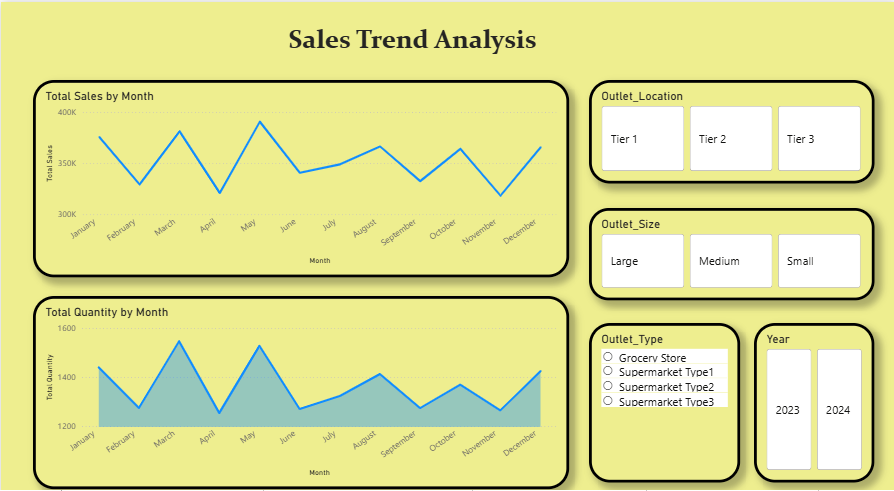

The dashboard page shown, as its layout file describes it:
{"tool":"powerbi","page":{"name":"Sales Trend Analysis","canvas":[1280,720],"ordinal":5},"visuals":[{"type":"lineChart","fields":{"Category":["Blinkit.Order_Date.Variation.Date Hierarchy.Month"],"Y":["Blinkit.Total Sales"]},"box":[46,112,766,282],"z":0},{"type":"stackedAreaChart","fields":{"Category":["Blinkit.Order_Date.Variation.Date Hierarchy.Month"],"Y":["Blinkit.Total Quantity"]},"box":[46,420,766,276],"z":1},{"type":"advancedSlicerVisual","fields":{"Values":["Blinkit.Outlet_Location"]},"box":[840,112,408,148],"z":2},{"type":"advancedSlicerVisual","fields":{"Values":["Blinkit.Outlet_Size"]},"box":[840,294,408,132],"z":3},{"type":"listSlicer","fields":{"Values":["Blinkit.Outlet_Type"]},"box":[840,458,216,228],"z":4},{"type":"advancedSlicerVisual","fields":{"Values":["Blinkit.Order_Date.Variation.Date Hierarchy.Year"]},"box":[1076,458,172,228],"z":5},{"type":"textbox","box":[100,24,976,68],"z":6}]}

Visuals, with their boxes in screenshot pixels (x1, y1, x2, y2), scaled from the page's 1280x720 canvas onto the 894x491 screenshot:
lineChart - Blinkit.Order_Date.Variation.Date Hierarchy.Month x Blinkit.Total Sales: box(32, 76, 567, 269)
stackedAreaChart - Blinkit.Order_Date.Variation.Date Hierarchy.Month x Blinkit.Total Quantity: box(32, 286, 567, 475)
advancedSlicerVisual - Blinkit.Outlet_Location: box(587, 76, 872, 177)
advancedSlicerVisual - Blinkit.Outlet_Size: box(587, 200, 872, 291)
listSlicer - Blinkit.Outlet_Type: box(587, 312, 738, 468)
advancedSlicerVisual - Blinkit.Order_Date.Variation.Date Hierarchy.Year: box(752, 312, 872, 468)
textbox: box(70, 16, 752, 63)
